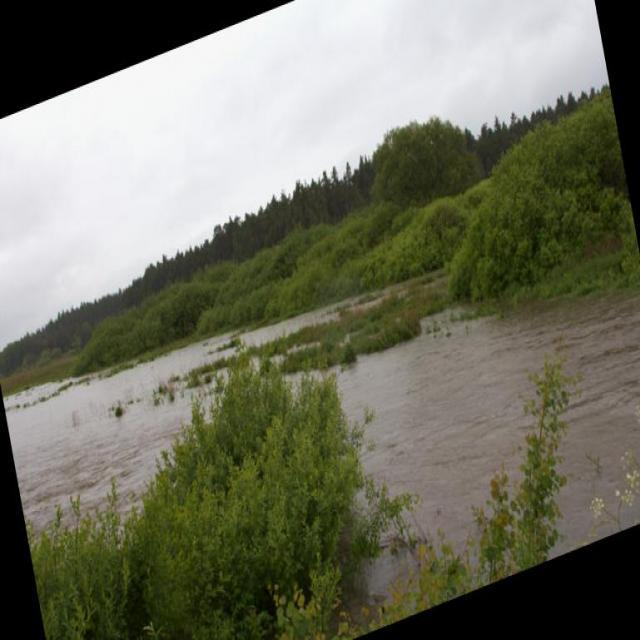flood: (1, 143, 639, 639)
